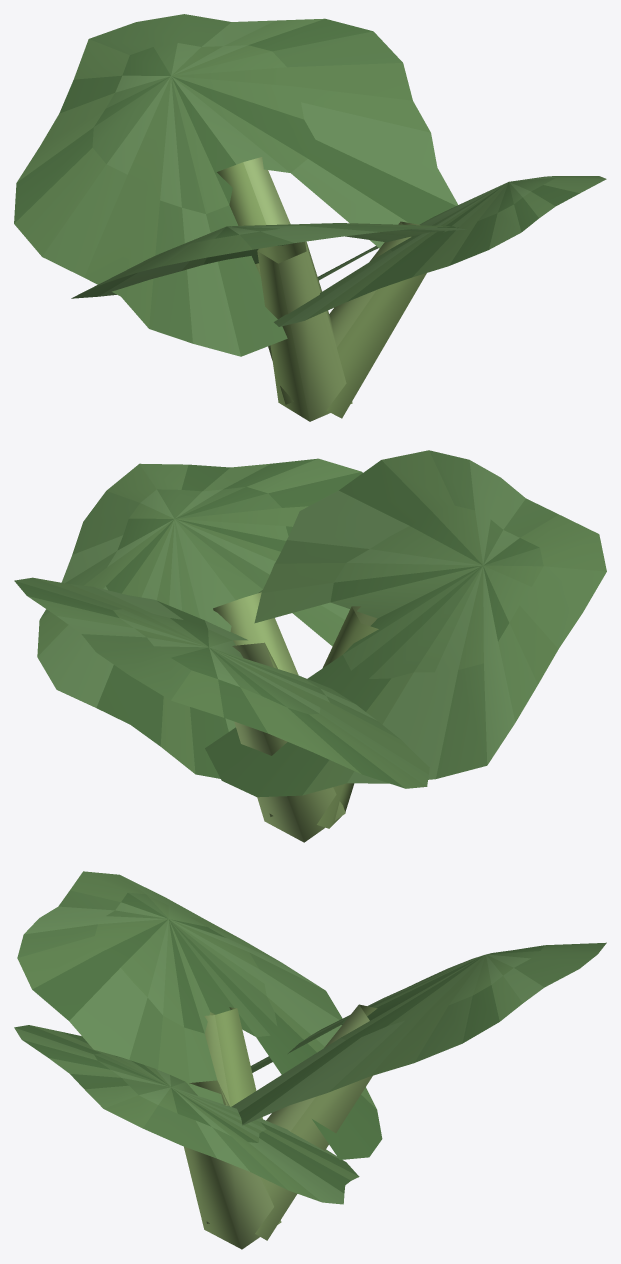
The model's file is melon_semis.glb.
3 views of the same model, one above another, from view 1: azimuth 30°, elevation 25°; view 2: azimuth 150°, elevation 25°; view 3: azimuth 270°, elevation 25° (orthographic). The views are drawn at different scales.
Parts seen in each view (by area): view 1: Melon_Feuilles, Melon_Tiges; view 2: Melon_Feuilles, Melon_Tiges; view 3: Melon_Feuilles, Melon_Tiges.
Part boxes in pixels (<box>): Melon_Feuilles: <box>14,14,606,356</box>; Melon_Tiges: <box>217,157,426,421</box>; Melon_Feuilles: <box>14,450,606,797</box>; Melon_Tiges: <box>213,592,378,842</box>; Melon_Feuilles: <box>14,871,606,1204</box>; Melon_Tiges: <box>184,1004,377,1249</box>.
Size of the model in its own units: 0.1163 by 0.0672 by 0.1284.
